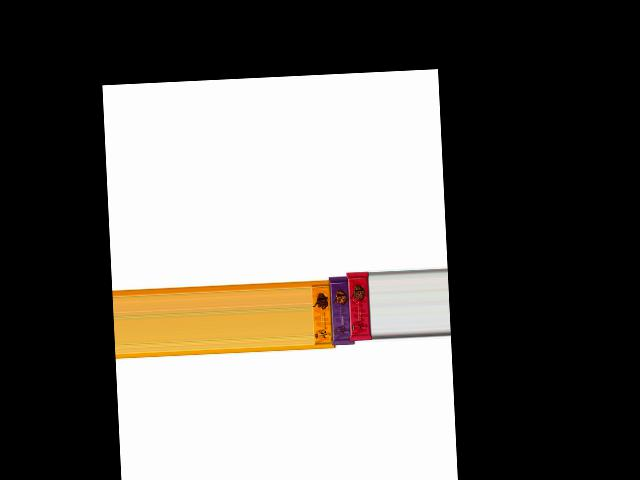chocolate: (346, 267, 372, 344)
